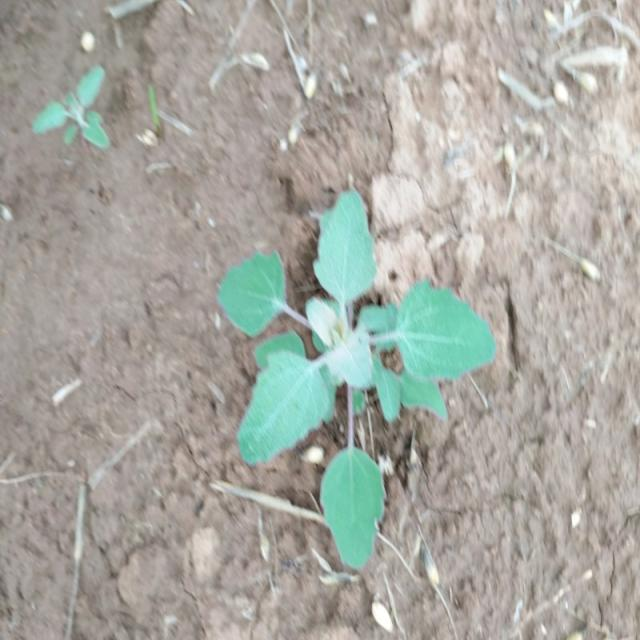goosefoots: (201, 188, 510, 591)
